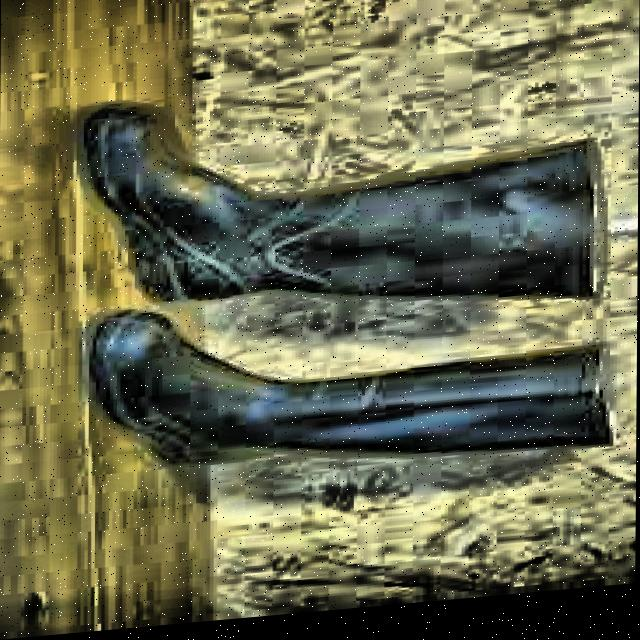shoes: (67, 51, 630, 513)
